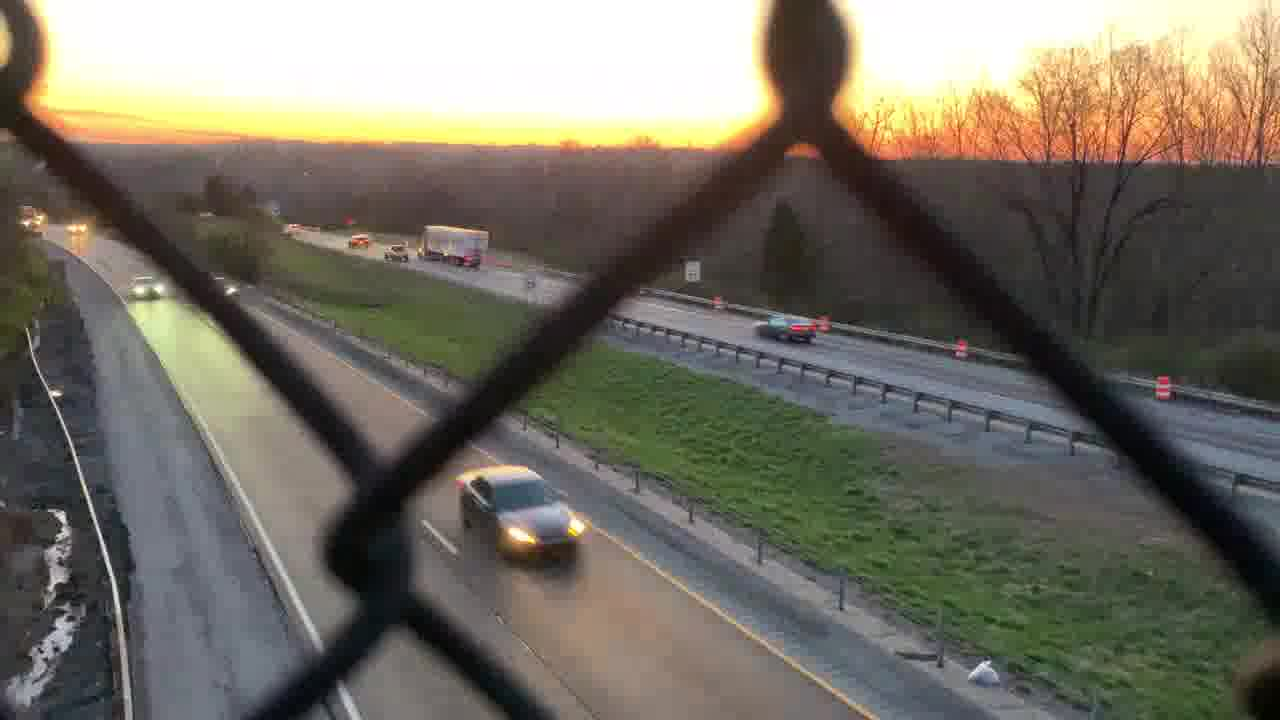heavyTruck: (414, 223, 489, 268)
smallCar: (454, 462, 587, 567), (751, 313, 820, 344)
